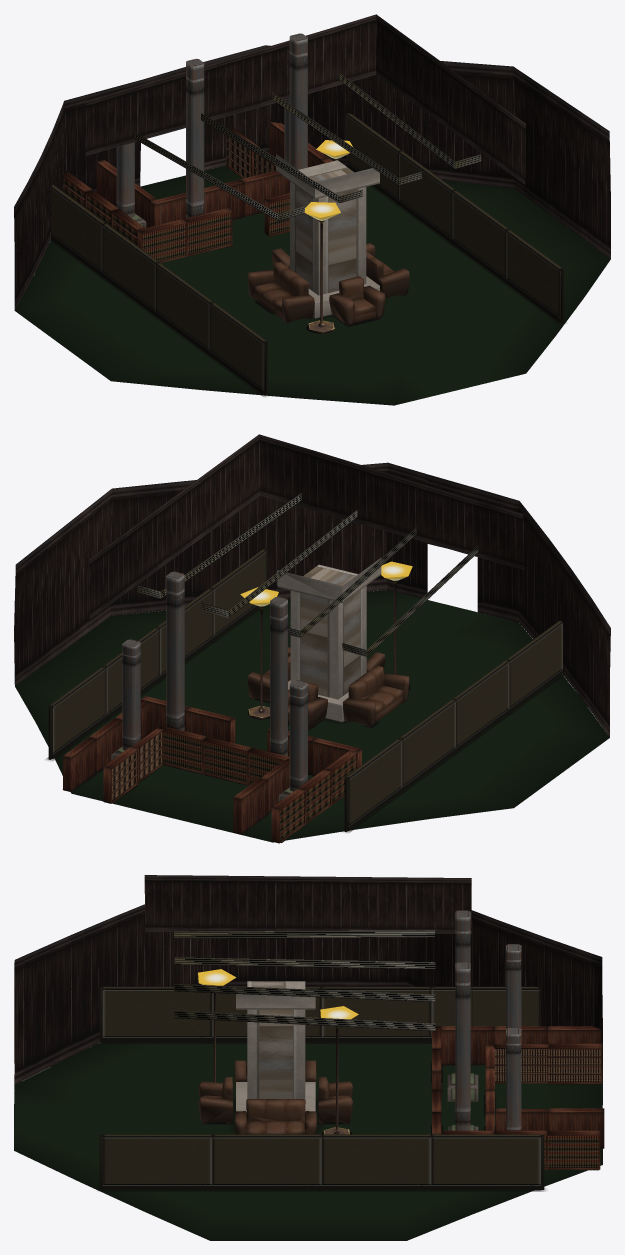
Rendered from room_103.glb.
3 renders of one model, top to bottom at view 1: azimuth 30°, elevation 25°; view 2: azimuth 150°, elevation 25°; view 3: azimuth 270°, elevation 25°, orthographic. The views are drawn at different scales.
Visible parts, largest first — view 1: floor, walls, Partition_A_Panel (×8), CH_Column_56, shaft (×3), pCube1 (×6), LB_couchA6 (×2), polySurface1 (×3), LB_chairA, CH_Column_55, Lights6, Lights4 (+4 smaller); view 2: walls, floor, Partition_A_Panel (×8), shaft (×4), pCube1 (×9), CH_Column_56, polySurface1 (×8), LB_couchA6 (×2), torch_lampA3 (×2), CH_Column_55, Lights2, Lights1 (+3 smaller); view 3: walls, floor, Partition_A_Panel (×8), shaft (×4), pCube1 (×7), CH_Column_56, polySurface1 (×3), LB_couchA6 (×2), LB_chairA (×2), Lights1, Lights2, Lights4 (+5 smaller).
Part boxes in pixels (x1,y1,x2,y2): floor: (15, 165, 610, 405); walls: (14, 14, 610, 310); Partition_A_Panel (×8): (51, 113, 564, 395); CH_Column_56: (290, 160, 366, 295); shaft (×3): (116, 33, 307, 217); pCube1 (×6): (96, 122, 289, 262); LB_couchA6 (×2): (247, 243, 409, 323); polySurface1 (×3): (143, 136, 251, 261); LB_chairA: (329, 276, 385, 326); CH_Column_55: (276, 154, 379, 199); Lights6: (134, 132, 304, 220); Lights4: (201, 113, 362, 202); walls: (14, 434, 610, 737); floor: (15, 590, 609, 842); Partition_A_Panel (×8): (48, 547, 562, 832); shaft (×4): (122, 571, 307, 791); pCube1 (×9): (63, 696, 361, 843); CH_Column_56: (290, 564, 366, 699); polySurface1 (×8): (111, 731, 356, 840); LB_couchA6 (×2): (247, 647, 409, 727); torch_lampA3 (×2): (240, 561, 412, 719); CH_Column_55: (277, 558, 381, 602); Lights2: (201, 510, 357, 617); Lights1: (137, 493, 301, 598); walls: (14, 875, 602, 1131); floor: (14, 1042, 602, 1240); Partition_A_Panel (×8): (99, 986, 544, 1190); shaft (×4): (455, 910, 521, 1130); pCube1 (×7): (441, 1026, 604, 1169); CH_Column_56: (247, 981, 305, 1099); polySurface1 (×3): (495, 1048, 600, 1167); LB_couchA6 (×2): (234, 1060, 316, 1134); LB_chairA (×2): (198, 1077, 352, 1123); Lights1: (174, 1010, 435, 1031); Lights2: (174, 983, 435, 1001); Lights4: (174, 957, 435, 969).
Bounding box in the file's own units: 135 × 48.34 × 137.
Materials: 19 (19 with a texture image).
